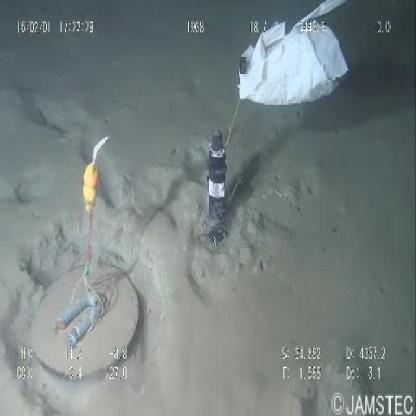Rov: (29, 122, 234, 378)
Rác: (235, 1, 362, 108)
